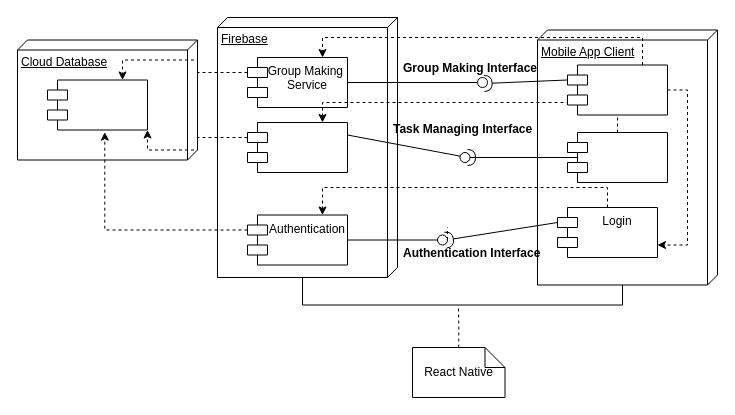
Some shapes in this 735 by 415 pixel diagram are drawn without their labels. Each missing label, with the centre of its shape:
Database: (x=97, y=104)
Group Page: (x=617, y=89)
Task Management Service: (x=297, y=147)
Task Page: (x=617, y=157)
